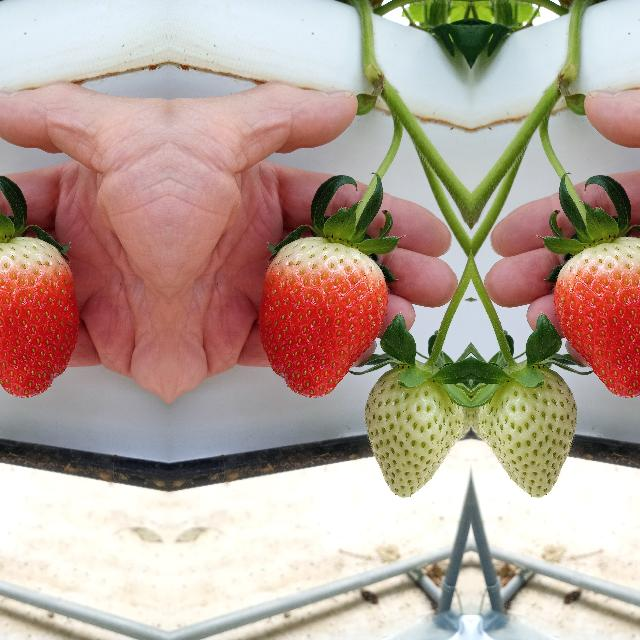Health_100: (257, 235, 388, 398), (552, 235, 640, 398), (0, 235, 78, 398)
Health_25: (362, 352, 470, 500), (472, 352, 578, 500)
